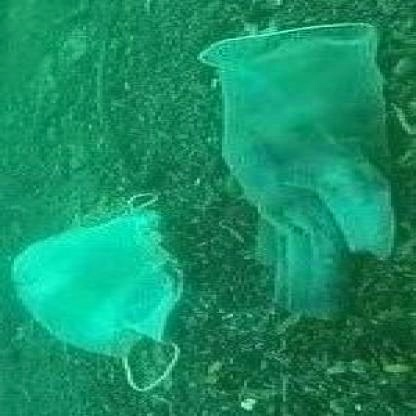Mask: (6, 195, 194, 392)
glove: (200, 19, 413, 326)
